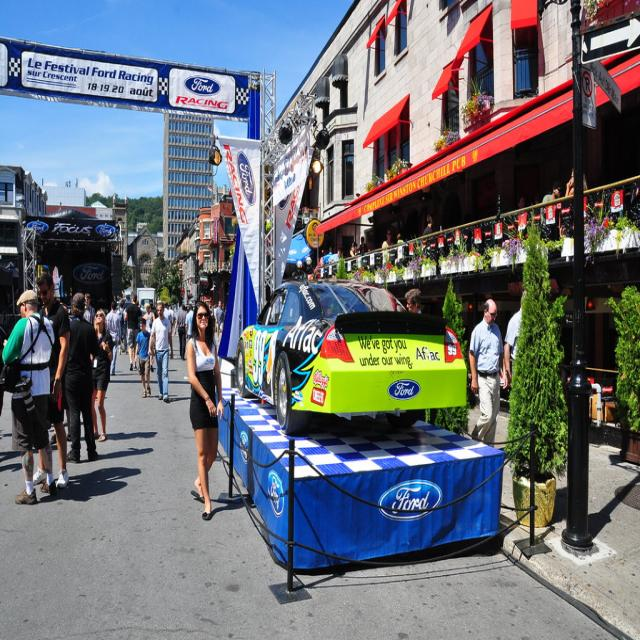car: (234, 273, 464, 429)
